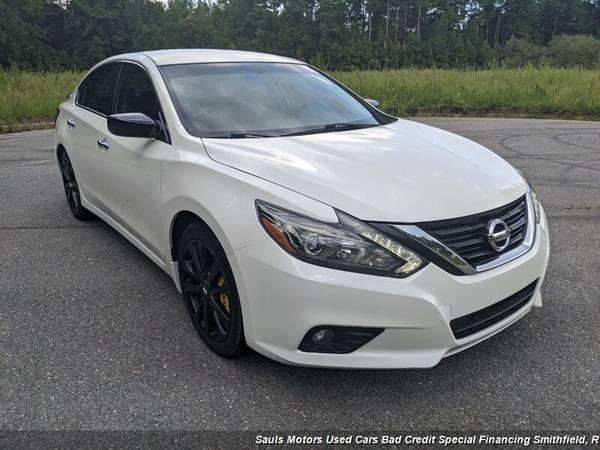Front_Bumper: (227, 205, 549, 370)
Front_Fender: (159, 138, 338, 290)
Front_Right_Door: (93, 116, 167, 259)
Front_Right_Window: (109, 62, 169, 146)
Front_Windshield: (159, 61, 384, 141)
Grille: (370, 189, 538, 275)
Hood: (202, 120, 529, 222)
Rear_Right_Door: (62, 104, 110, 209)
Rear_Right_Window: (75, 62, 125, 120)
Right_Headlight: (254, 198, 431, 278)
Roof: (83, 50, 304, 150)
Wheel: (175, 227, 239, 361), (60, 153, 83, 214)
